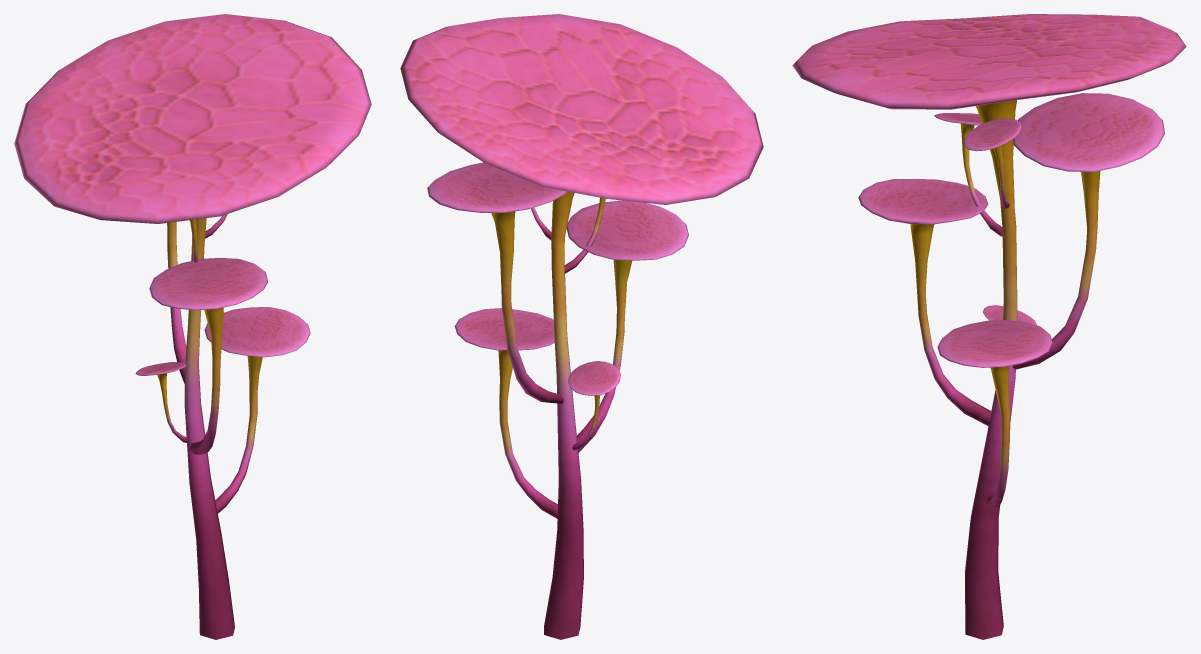
File: Cartoon Seaweed_13-2-22.fbx
3 views of the same model, side by side, from view 1: azimuth 30°, elevation 25°; view 2: azimuth 150°, elevation 25°; view 3: azimuth 270°, elevation 25° (orthographic). The views are drawn at different scales.
Visible parts, largest first — view 1: Cartoon Seaweed_13.2.22; view 2: Cartoon Seaweed_13.2.22; view 3: Cartoon Seaweed_13.2.22.
Boxes of the visible parts, x1,y1,x2,y2 form: Cartoon Seaweed_13.2.22: (14, 14, 371, 639); Cartoon Seaweed_13.2.22: (400, 14, 763, 639); Cartoon Seaweed_13.2.22: (792, 14, 1186, 639).
Size of the model in its own units: 20.53 by 36.04 by 21.3.
Materials: 1 (1 with a texture image).
